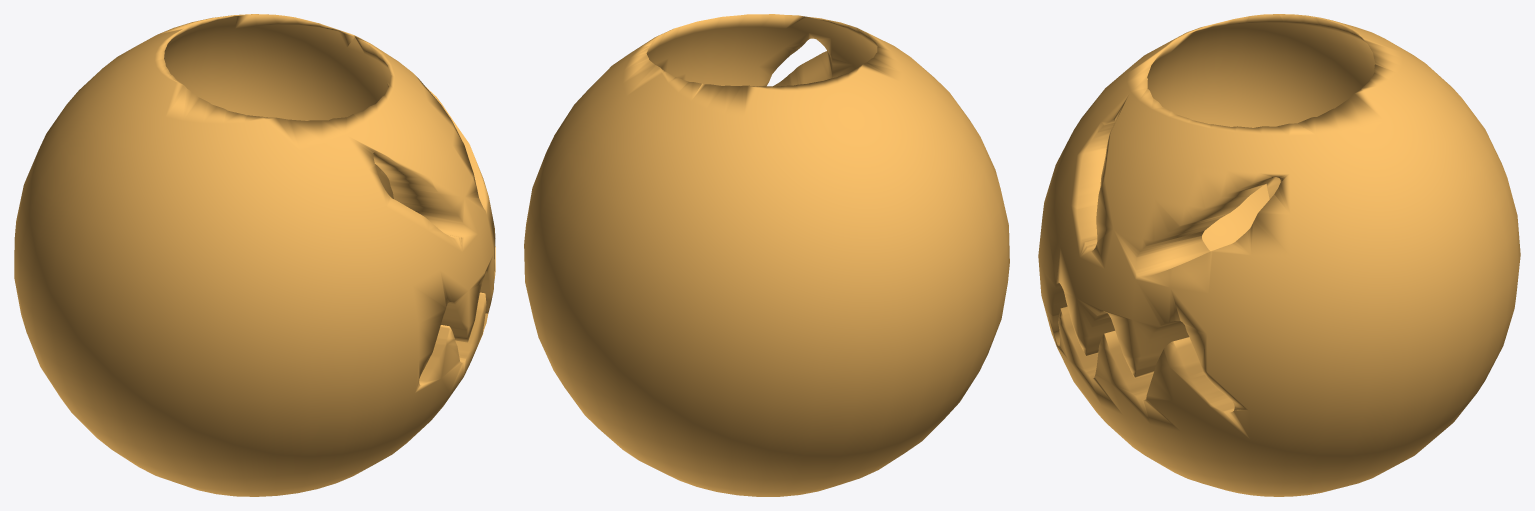
The picture shows the model from 3 angles, left to right: view 1: azimuth 30°, elevation 25°; view 2: azimuth 150°, elevation 25°; view 3: azimuth 270°, elevation 25°; orthographic projection.
Visible parts, largest first — view 1: obj_0.001; view 2: obj_0.001; view 3: obj_0.001.
Boxes of the visible parts, x1,y1,x2,y2 form: obj_0.001: (14, 14, 495, 496); obj_0.001: (524, 14, 1009, 496); obj_0.001: (1038, 14, 1520, 496).
Bounding box in the file's own units: 0.0427 × 0.0412 × 0.0428.
